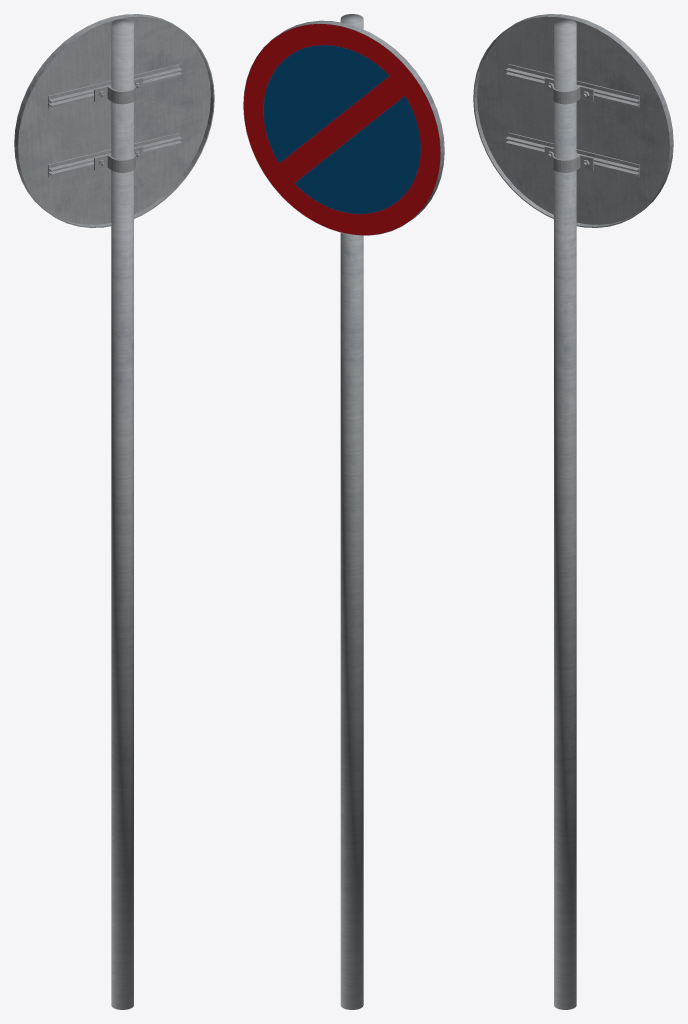
File: No_Waiting_or_No_Parking.fbx
3 renders of one model, left to right at view 1: azimuth 30°, elevation 25°; view 2: azimuth 150°, elevation 25°; view 3: azimuth 330°, elevation 25°, orthographic.
Parts seen in each view (by area): view 1: No Waiting or No Parking; view 2: No Waiting or No Parking; view 3: No Waiting or No Parking.
Boxes of the visible parts, x1,y1,x2,y2 form: No Waiting or No Parking: (14, 14, 214, 1009); No Waiting or No Parking: (243, 14, 444, 1009); No Waiting or No Parking: (473, 14, 673, 1009).
Bounding box in the file's own units: 0.0876 × 0.6 × 2.86.
